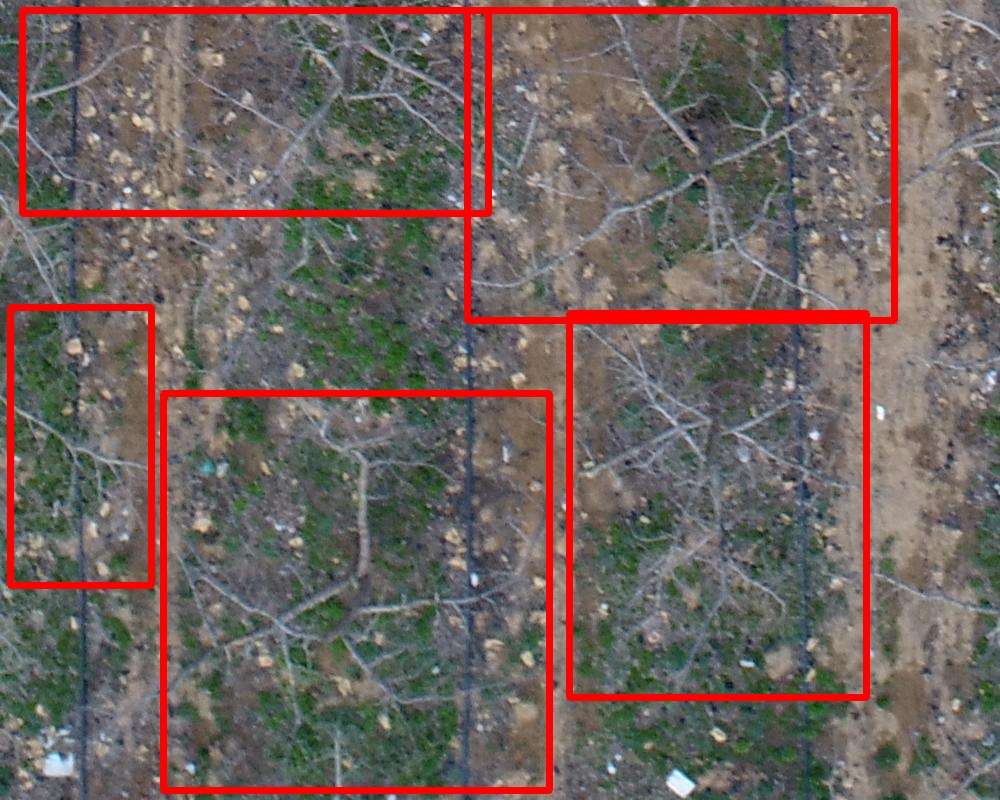apple: (163, 393, 549, 790), (467, 10, 894, 320), (569, 313, 866, 697), (22, 10, 488, 213), (10, 307, 151, 585)
